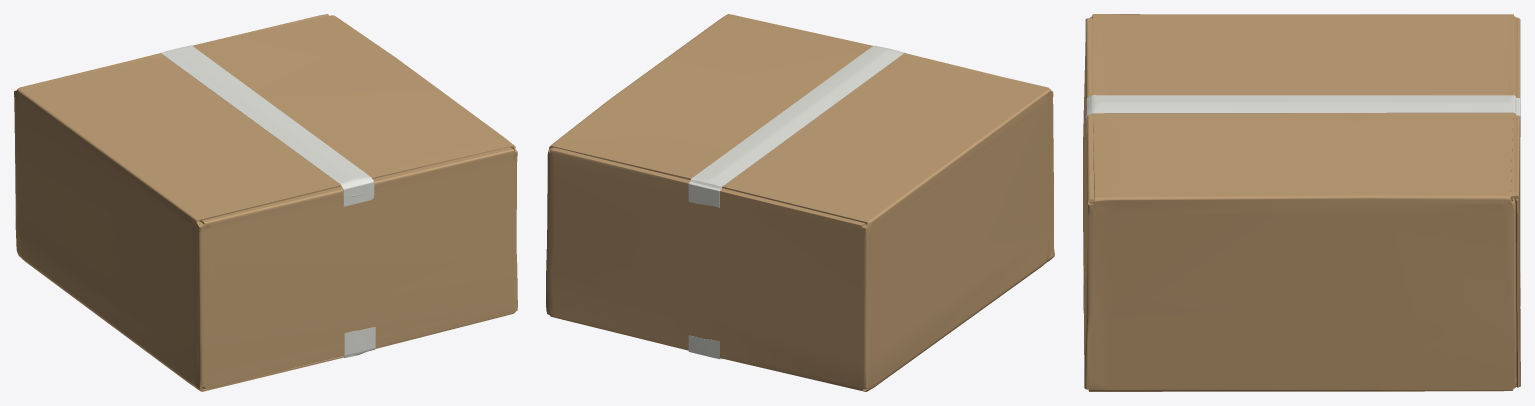
The model's file is box_flat_white_b09.glb.
3 views of the same model, side by side, from view 1: azimuth 30°, elevation 25°; view 2: azimuth 150°, elevation 25°; view 3: azimuth 270°, elevation 25° (orthographic). The views are drawn at different scales.
Size of the model in its own units: 0.3148 by 0.1625 by 0.3182.
